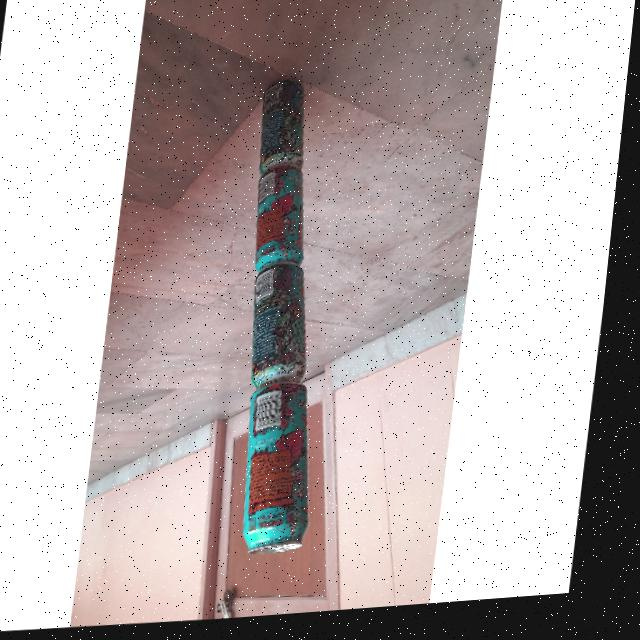Monster Aussie Lemonade: (248, 264, 322, 391), (253, 83, 313, 173)
Monster Mango Loco: (244, 388, 331, 560), (253, 171, 319, 268)
